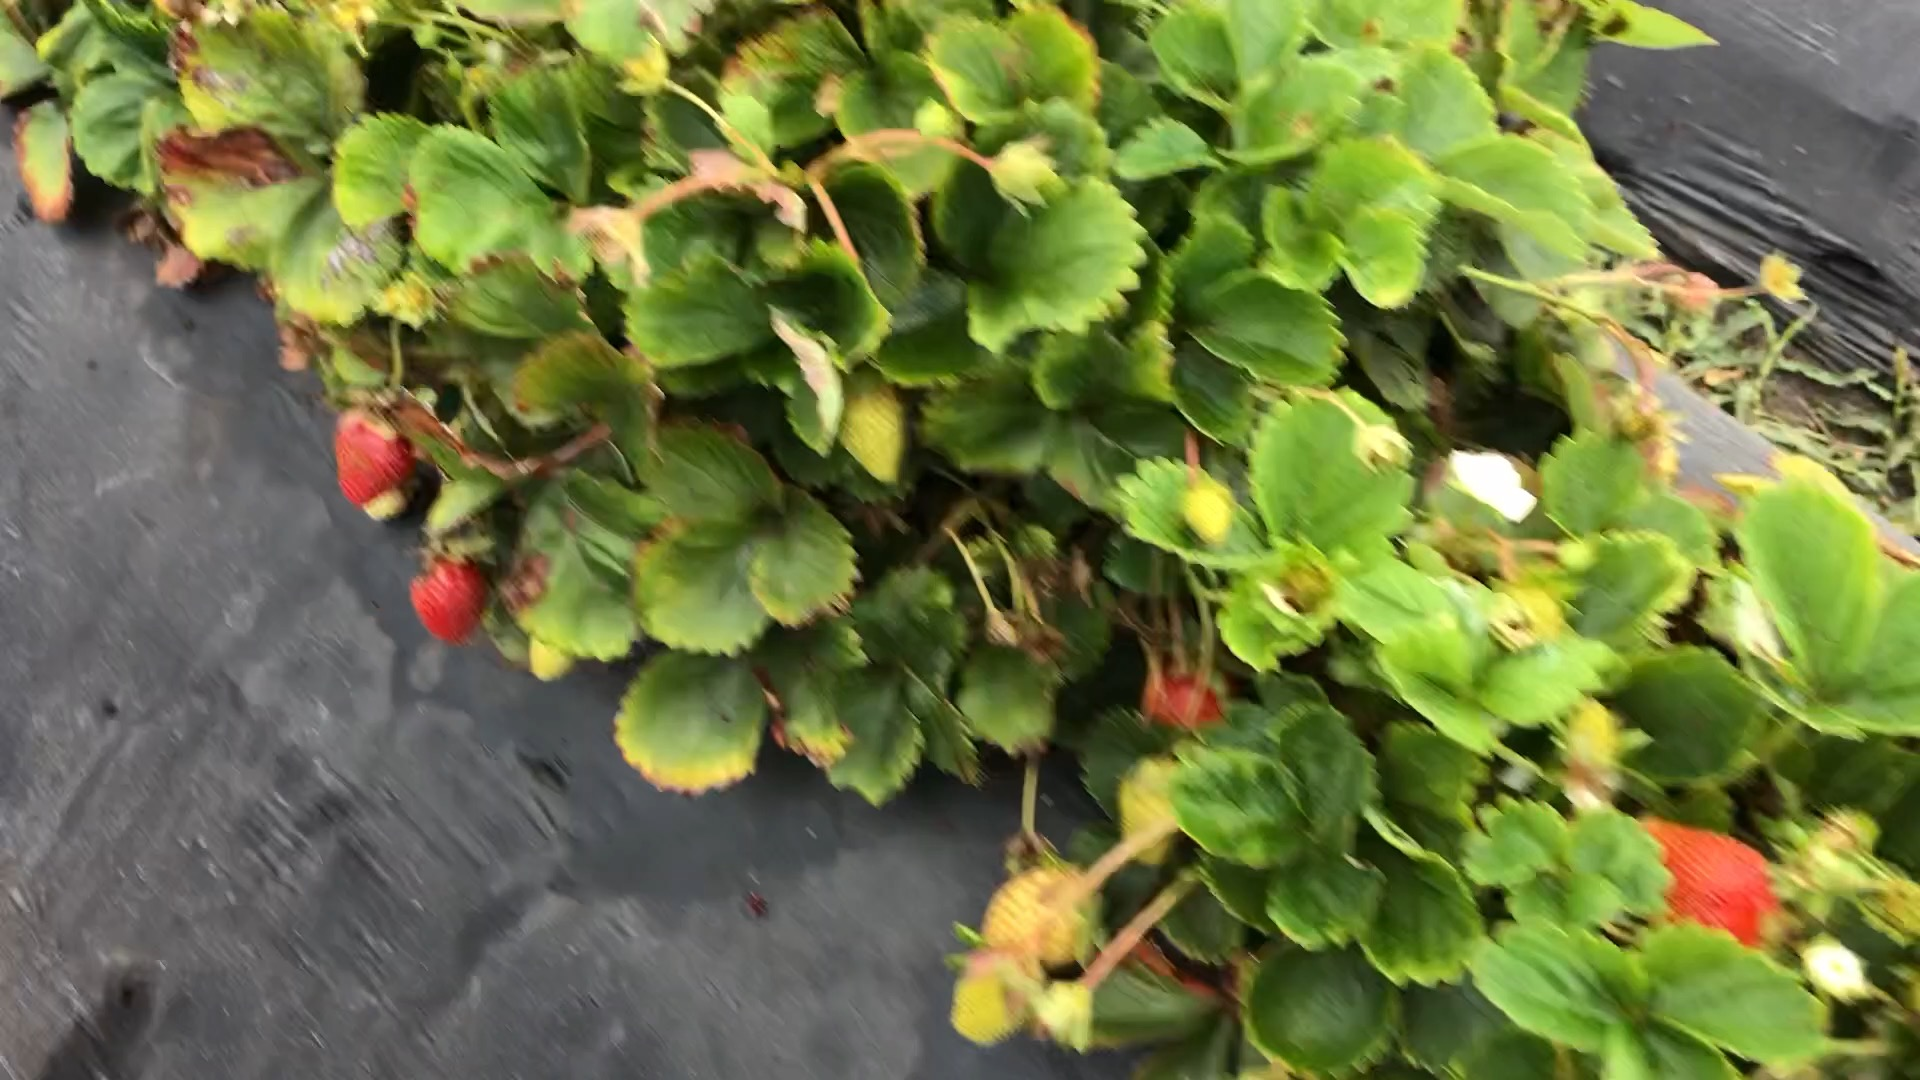ripe_strawberry: (1633, 807, 1782, 956), (331, 402, 415, 508), (407, 547, 491, 647), (1143, 669, 1232, 727)
unripe_strawberry: (977, 858, 1102, 972), (947, 942, 1036, 1052), (1116, 752, 1185, 872), (1174, 473, 1240, 546)
